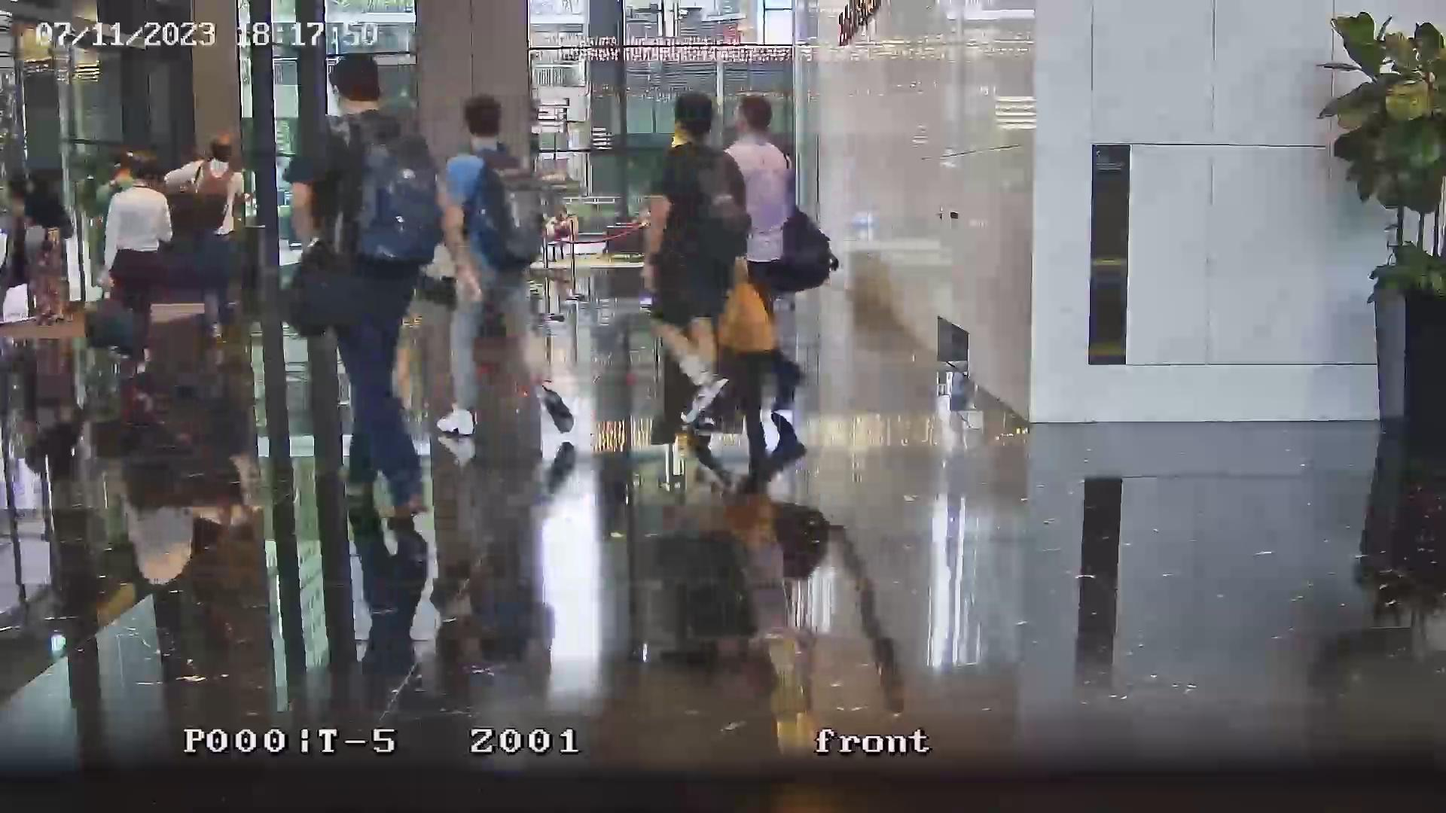person: (290, 53, 442, 521), (439, 95, 565, 451), (720, 92, 810, 476), (642, 90, 751, 403), (166, 126, 245, 334), (100, 151, 172, 360), (24, 166, 72, 330)
